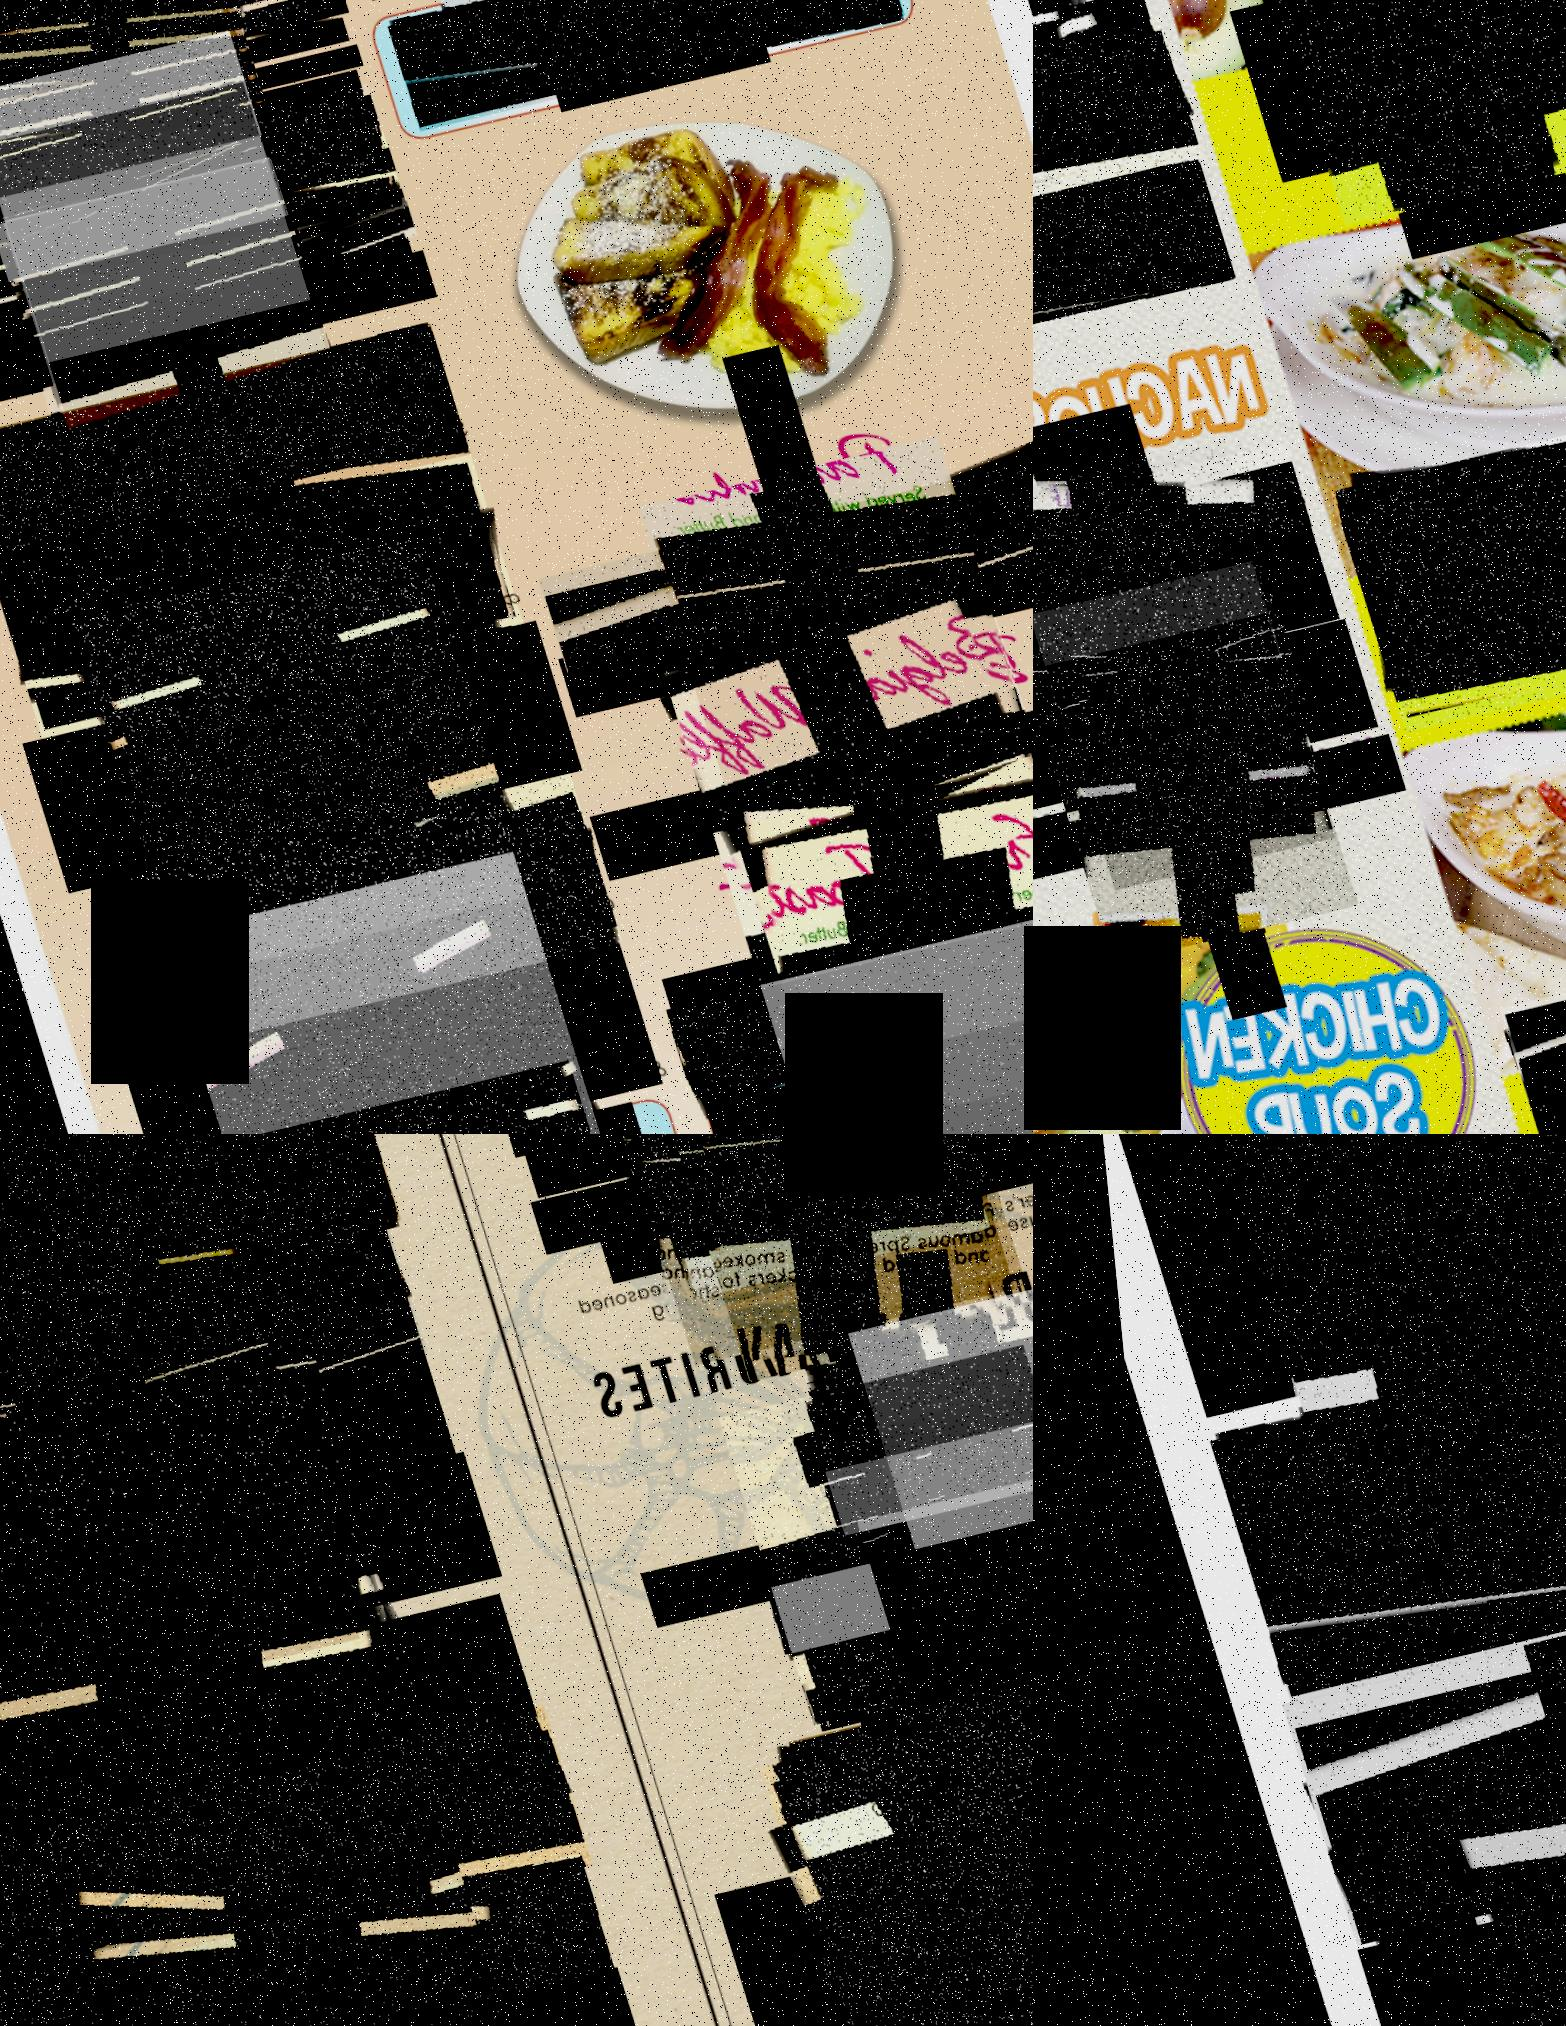Menu-Items: (0, 1480, 439, 1990), (39, 536, 509, 982), (0, 1339, 416, 1839), (0, 1707, 575, 2014), (0, 1224, 343, 1738), (1173, 1265, 1566, 1705), (626, 582, 1033, 992), (0, 441, 509, 755), (1140, 1134, 1566, 1509), (60, 776, 598, 1057), (610, 440, 1008, 817), (1239, 1526, 1566, 1946), (123, 853, 592, 1134), (695, 1349, 1033, 1732), (697, 757, 1033, 1134), (0, 159, 341, 511), (0, 1205, 419, 1481), (505, 461, 1033, 675), (0, 325, 456, 572), (0, 135, 329, 468), (727, 1676, 1033, 2026), (0, 1839, 554, 2026), (0, 83, 310, 415), (578, 1134, 1004, 1371), (0, 1857, 596, 2026), (0, 31, 297, 364), (0, 1134, 397, 1379), (643, 1134, 1023, 1387), (1033, 658, 1330, 968), (1300, 400, 1566, 737), (0, 0, 288, 311), (622, 885, 1033, 1102), (1033, 441, 1285, 779), (0, 0, 287, 284), (1033, 616, 1308, 894), (1241, 0, 1566, 230), (1033, 563, 1296, 846), (720, 902, 1033, 1134), (366, 0, 899, 134), (0, 132, 391, 306), (0, 1134, 272, 1384), (589, 1134, 980, 1303), (0, 0, 274, 237), (0, 0, 264, 245), (0, 85, 375, 253), (0, 199, 407, 353), (544, 1134, 983, 1274), (832, 1468, 1033, 1773), (741, 1666, 1033, 1865), (845, 1514, 1033, 1811), (827, 1287, 1033, 1555), (735, 1490, 1033, 1659), (0, 0, 257, 185), (1033, 445, 1293, 613), (755, 1641, 1033, 1795), (0, 0, 332, 124), (1033, 159, 1222, 362), (1033, 18, 1192, 246), (780, 1303, 1033, 1445), (799, 1394, 1033, 1541), (219, 1061, 626, 1134), (1458, 920, 1566, 1134)
